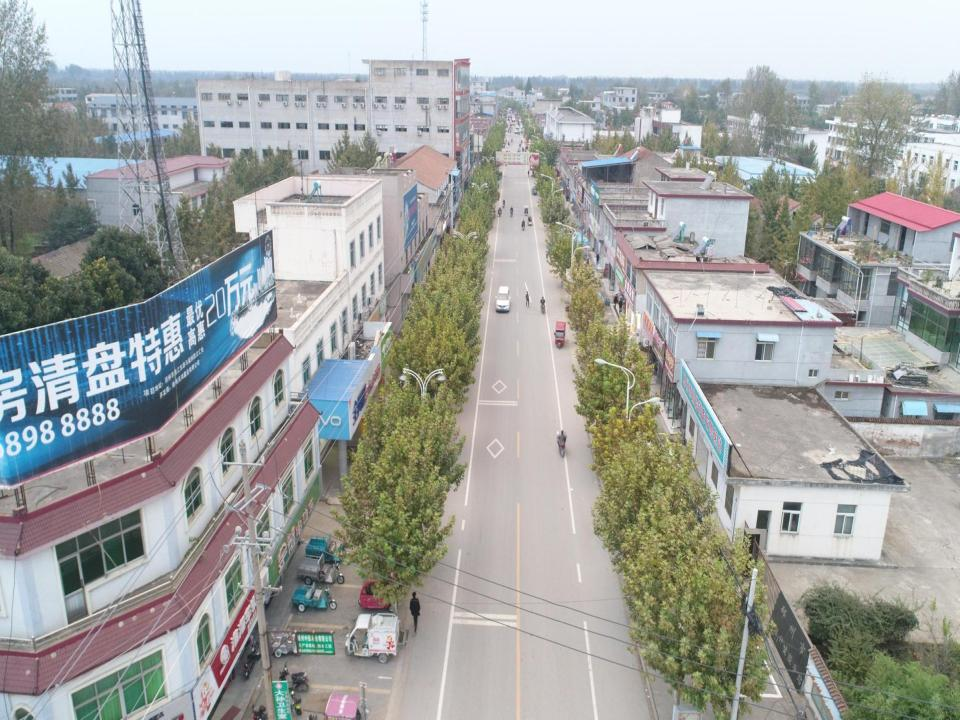car: (494, 285, 511, 312), (514, 129, 518, 134), (516, 125, 519, 129)
